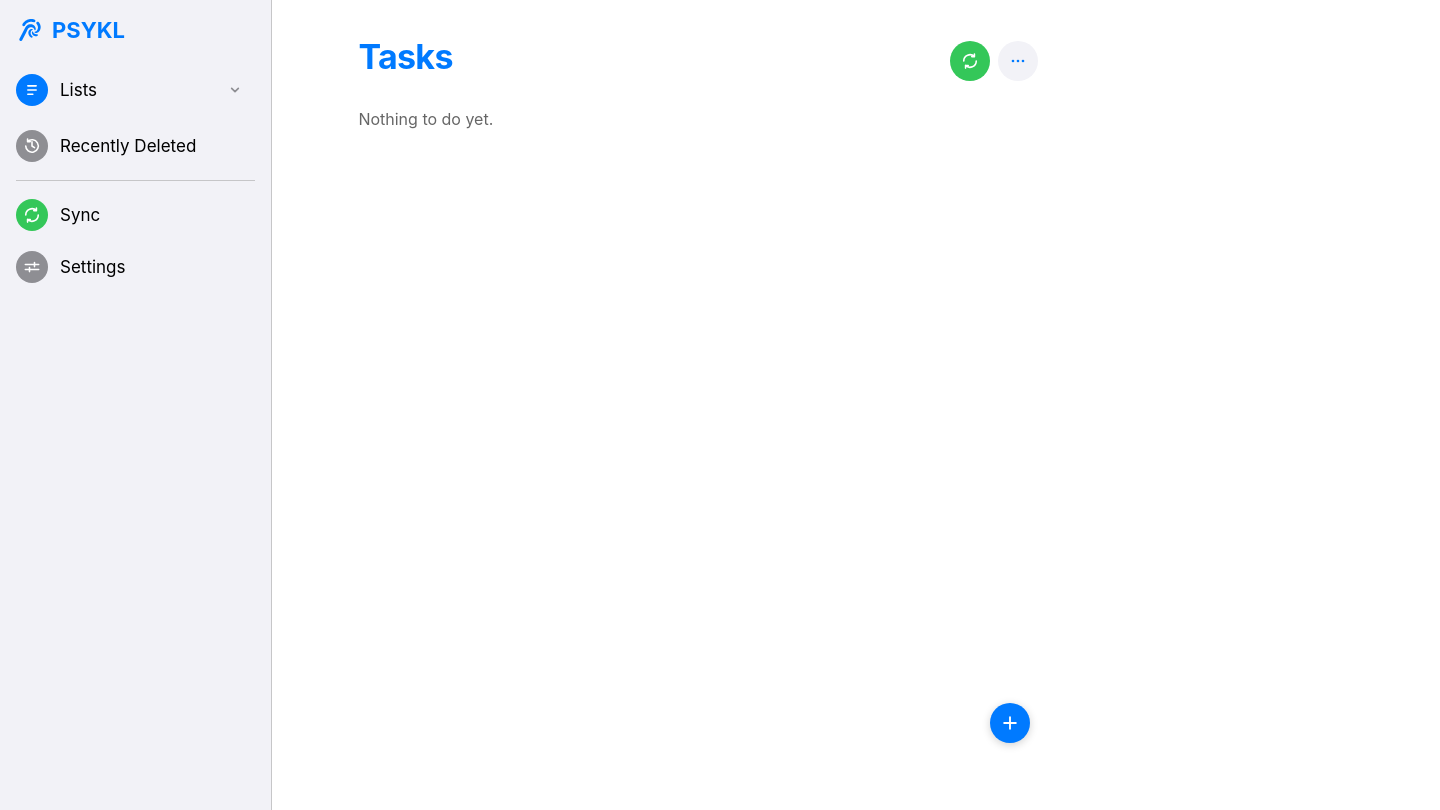
Test: App shell › reaches Recently Deleted from navigation
Click the button "Recently Deleted" at [110, 146], box 16,120 -> 204,172
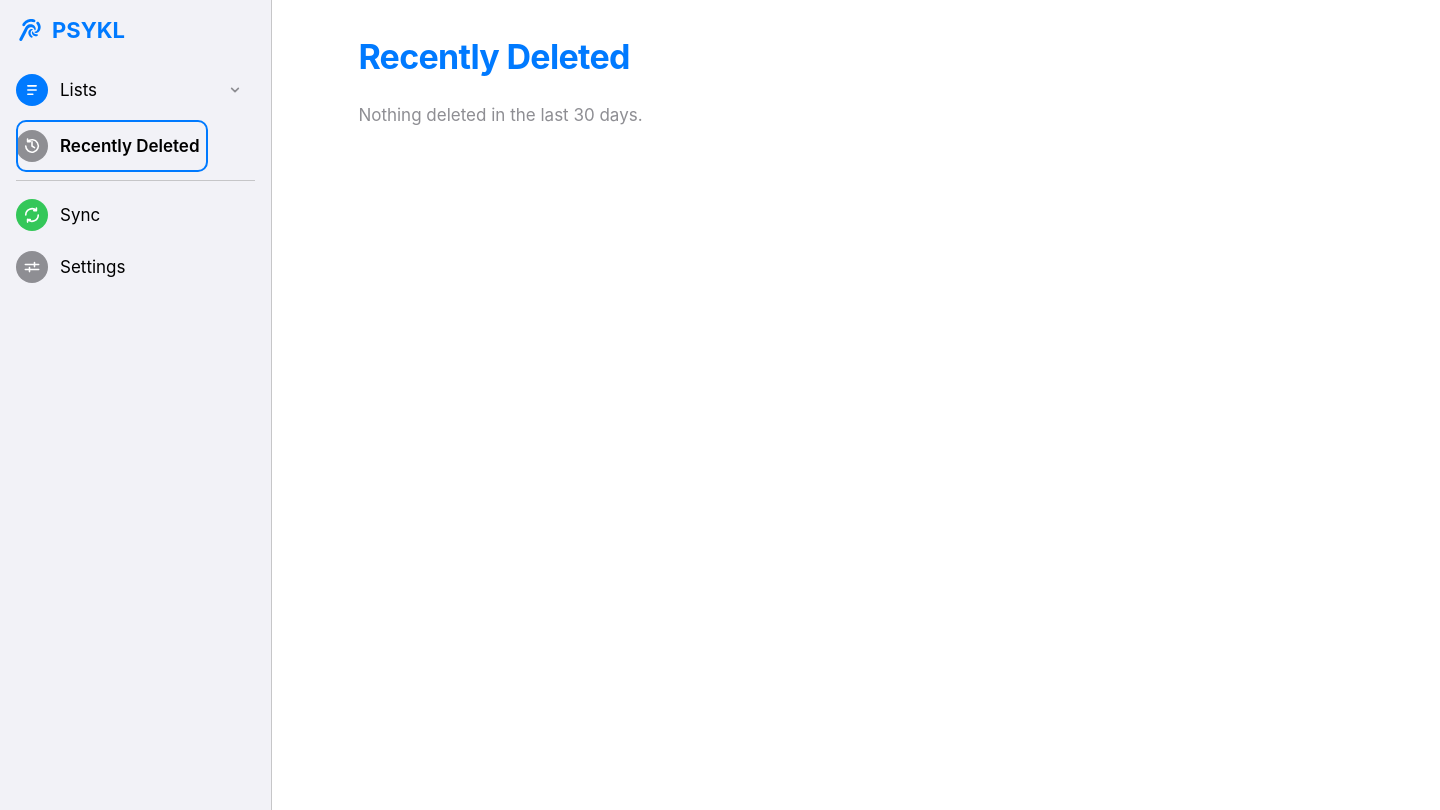
Result: the element named "Recently Deleted" is shown at 358,105 -> 643,125
